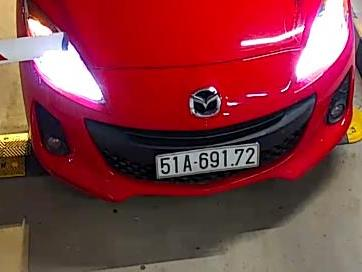car: (156, 142, 262, 178)
